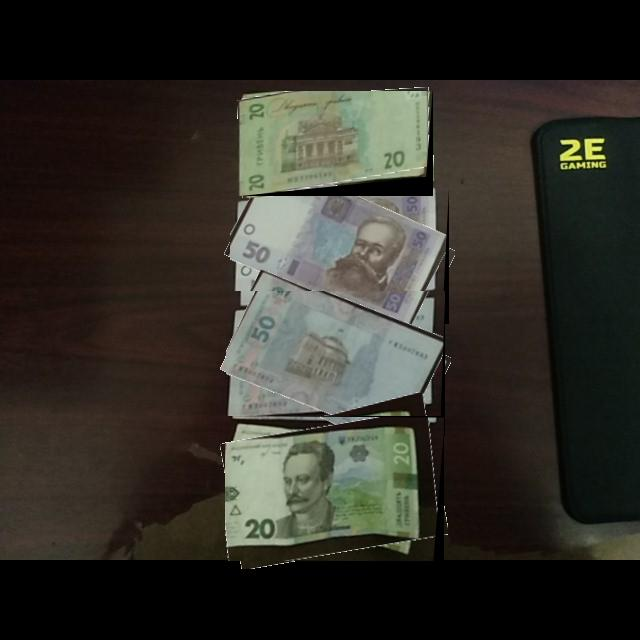20uah: (225, 416, 445, 562), (238, 91, 434, 197)
50uah: (226, 291, 446, 437), (230, 181, 450, 325)
